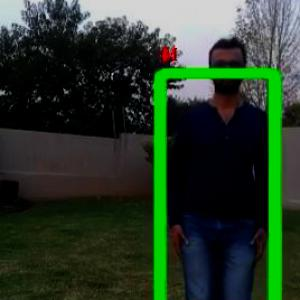follow: (176, 48, 266, 299)
